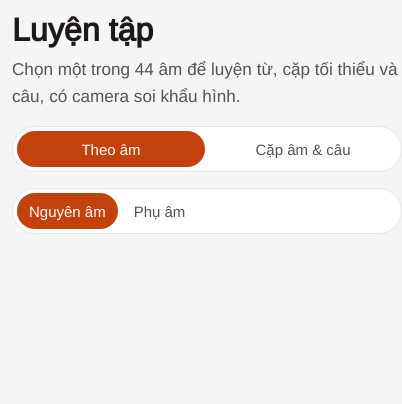
it: PracticeScreen · by sound › lists the sounds tab by default with badge and counts, and switches tabs
Step 1. Click the tab "Cặp âm & câu" → (303, 149), box [209, 131, 397, 167]
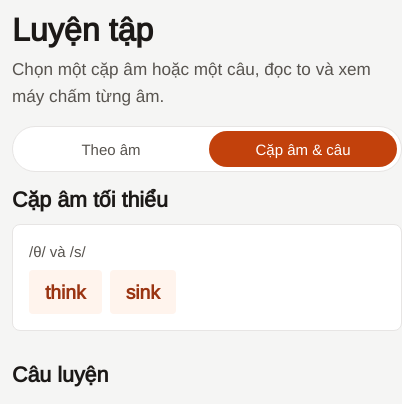
Result: the link "think" is shown at [29, 270, 102, 314]
